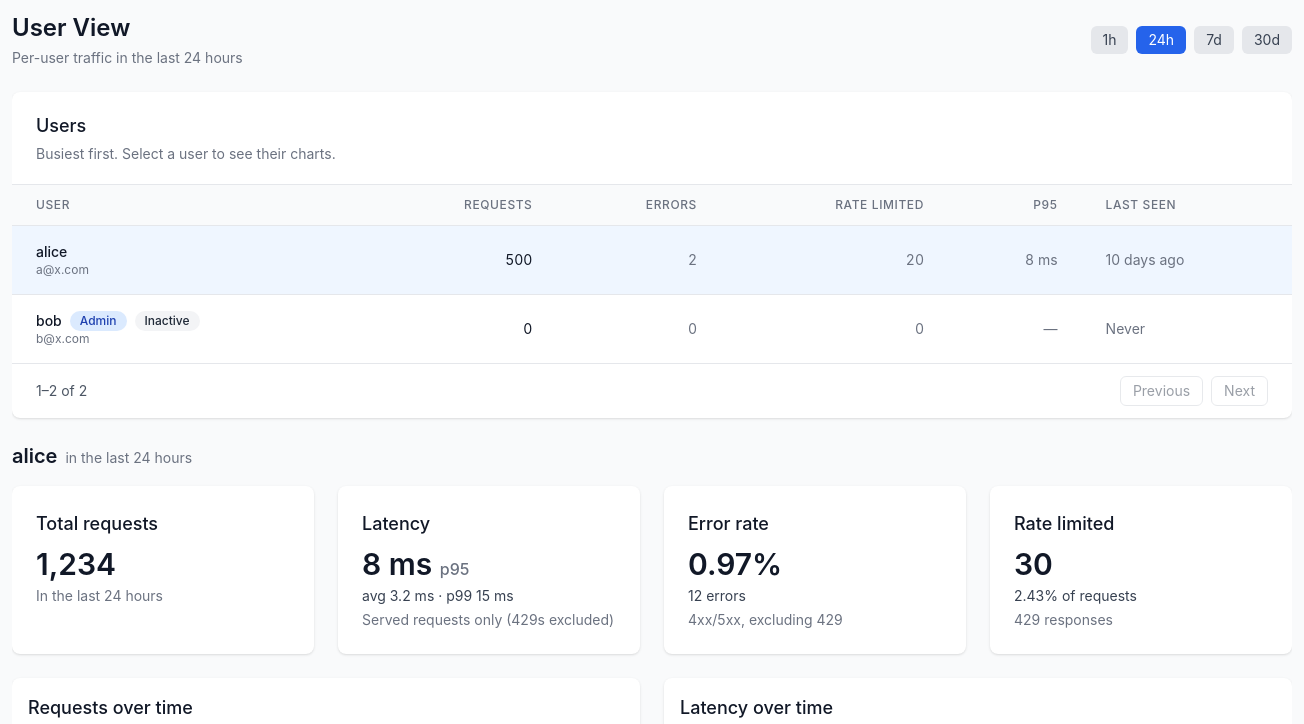
Test: UserView › admins pick a user to load that user’s usage
Expected: the heading "Total requests" is shown, [36,513,158,534]
Expected: the text "Never" is shown, [1106,320,1145,337]
What coordinates should you click on to do the following:
click the text "bob"
I would click on:
 (49, 321)
Its box is [36,311,62,331].
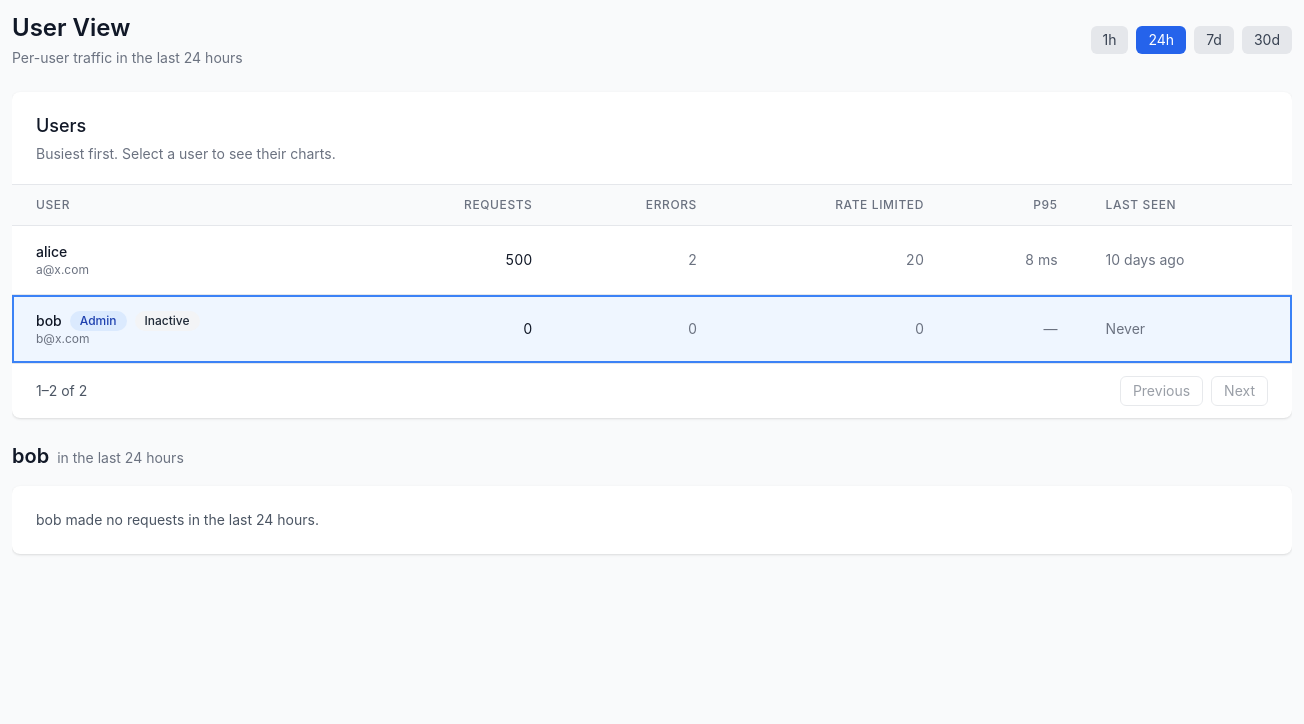
Now the text "bob made no requests in the last 24 hours." is shown, box [12,486,1292,554]
